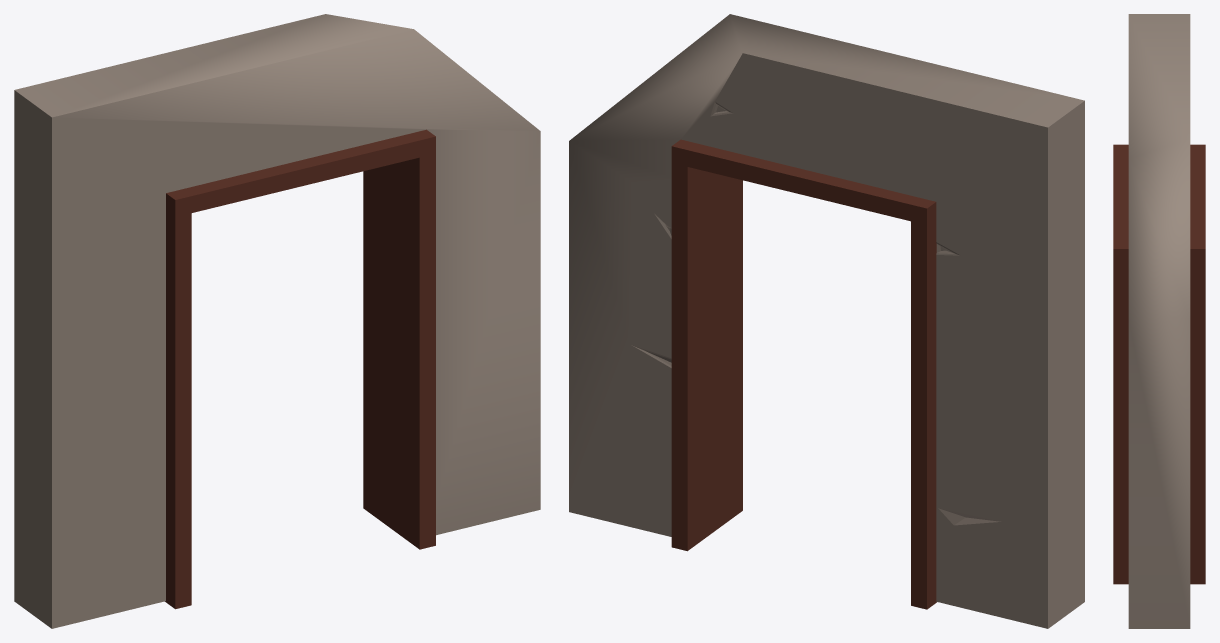
Rendered from Door_01_Broken_01.fbx.
3 views of the same model, side by side, from view 1: azimuth 30°, elevation 25°; view 2: azimuth 150°, elevation 25°; view 3: azimuth 270°, elevation 25° (orthographic). The views are drawn at different scales.
Parts seen in each view (by area): view 1: Cube.023; view 2: Cube.023; view 3: Cube.023.
Boxes of the visible parts, x1=… form: Cube.023: x1=14, y1=14, x2=540, y2=628; Cube.023: x1=569, y1=14, x2=1084, y2=628; Cube.023: x1=1113, y1=14, x2=1205, y2=628.
Bounding box in the file's own units: 300 × 301 × 60.
